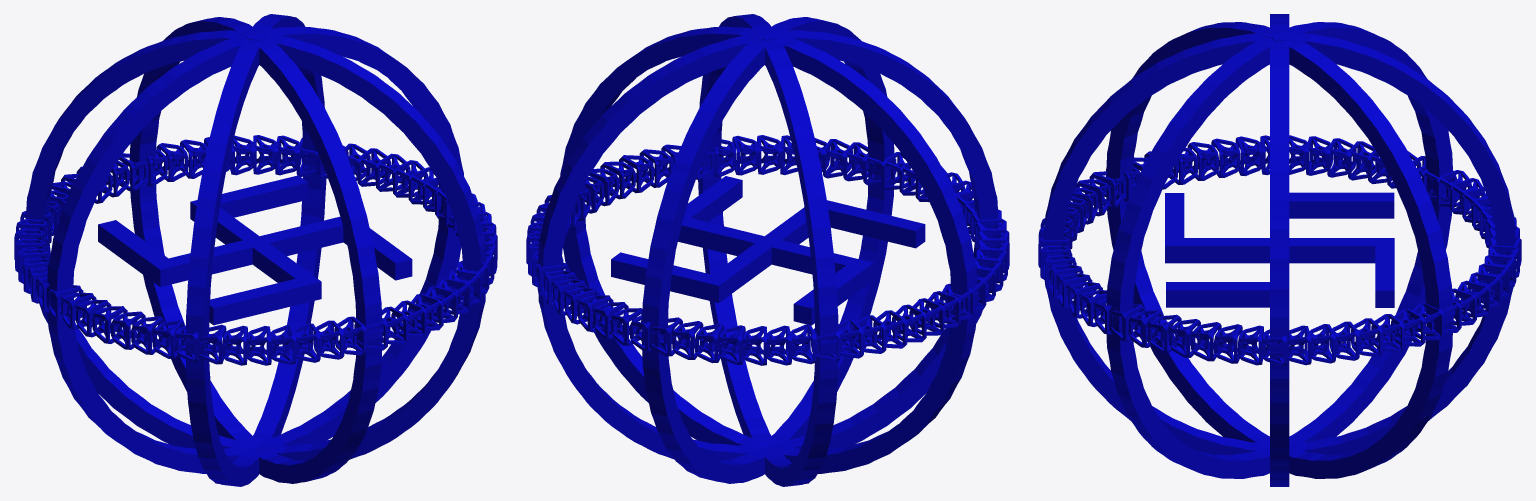
Rendered from reythrecruit.obj.
3 renders of one model, left to right at view 1: azimuth 30°, elevation 25°; view 2: azimuth 150°, elevation 25°; view 3: azimuth 270°, elevation 25°, orthographic.
Parts seen in each view (by area): view 1: Cube; view 2: Cube; view 3: Cube.
Boxes of the visible parts, box(x1,y1,x2,y2) form: Cube: box(14, 14, 497, 486); Cube: box(526, 14, 1009, 486); Cube: box(1038, 14, 1521, 486).
Size of the model in its own units: 50.62 by 49.62 by 50.61.
